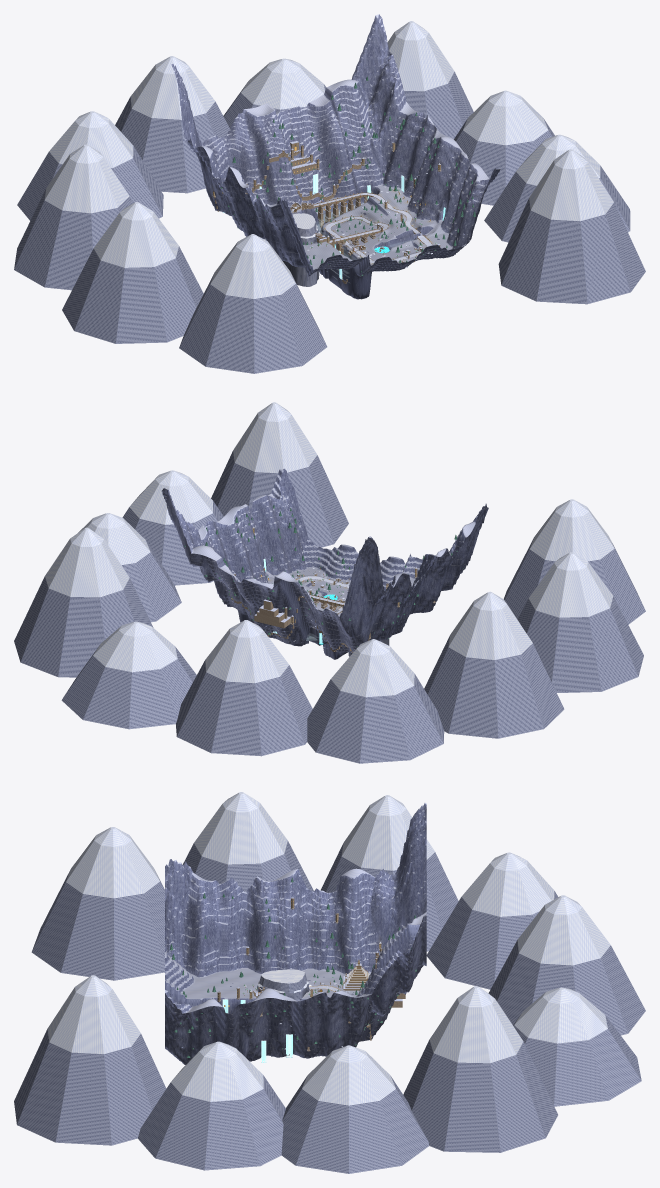
The picture shows the model from 3 angles, top to bottom: view 1: azimuth 30°, elevation 25°; view 2: azimuth 150°, elevation 25°; view 3: azimuth 270°, elevation 25°; orthographic projection. The views are drawn at different scales.
Visible parts, largest first — view 1: Mountains, Far Peak 11, Far Peak 7, Far Peak 8, Far Peak 6, Far Peak 4, Far Peak 1, Far Peak 5, Far Peak 2, Far Peak 12, Far Peak 3, Serpent Rock (+2 smaller); view 2: Mountains, Far Peak 6, Far Peak 4, Far Peak 5, Far Peak 2, Far Peak 7, Far Peak 3, Far Peak 11, Far Peak 8, Far Peak 12, Far Peak 1, Great Keep; view 3: Mountains, Far Peak 11, Far Peak 2, Far Peak 8, Far Peak 12, Far Peak 1, Far Peak 4, Far Peak 3, Far Peak 5, Far Peak 7, Far Peak 6, Serpent Rock.
Part boxes in pixels (x1,y1,x2,y2): Mountains: (171,14,500,299); Far Peak 11: (498,149,645,304); Far Peak 7: (62,202,203,343); Far Peak 8: (179,234,327,373); Far Peak 6: (14,144,132,290); Far Peak 4: (115,56,229,193); Far Peak 1: (454,90,554,205); Far Peak 5: (17,111,163,220); Far Peak 2: (387,21,473,139); Far Peak 12: (484,134,630,242); Far Peak 3: (223,58,326,128); Serpent Rock: (283,213,319,286); Mountains: (161,468,488,659); Far Peak 6: (424,591,564,738); Far Peak 4: (176,620,312,756); Far Peak 5: (307,639,444,763); Far Peak 2: (14,527,153,677); Far Peak 7: (517,552,643,692); Far Peak 3: (61,621,196,729); Far Peak 11: (211,402,348,547); Far Peak 8: (504,499,645,624); Far Peak 12: (122,470,223,585); Far Peak 1: (78,513,181,622); Great Keep: (254,599,291,628); Mountains: (165,803,426,1064); Far Peak 11: (14,975,166,1145); Far Peak 2: (403,986,557,1152); Far Peak 8: (31,827,164,980); Far Peak 12: (138,1041,285,1170); Far Peak 1: (281,1045,429,1173); Far Peak 4: (488,895,645,1035); Far Peak 3: (513,987,641,1106); Far Peak 5: (426,852,558,989); Far Peak 7: (182,792,313,891); Far Peak 6: (321,795,458,951); Serpent Rock: (257,969,309,1000).
Bounding box in the file's own units: 2183 × 691 × 1981.
30 materials, 30 textured.
